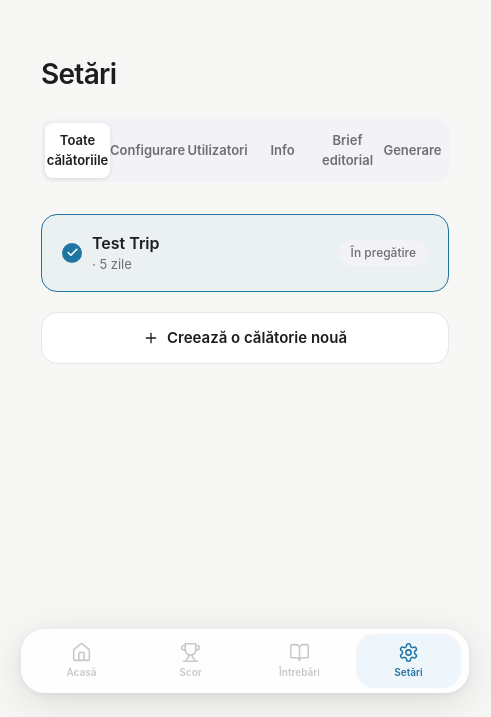
it: Trip editorial brief: editable form before publication › pre-fills the form from an existing brief (not the form's own defaults)
Click the button "Brief editorial": (348, 150) [315,123,380,178]
(page scrolled)
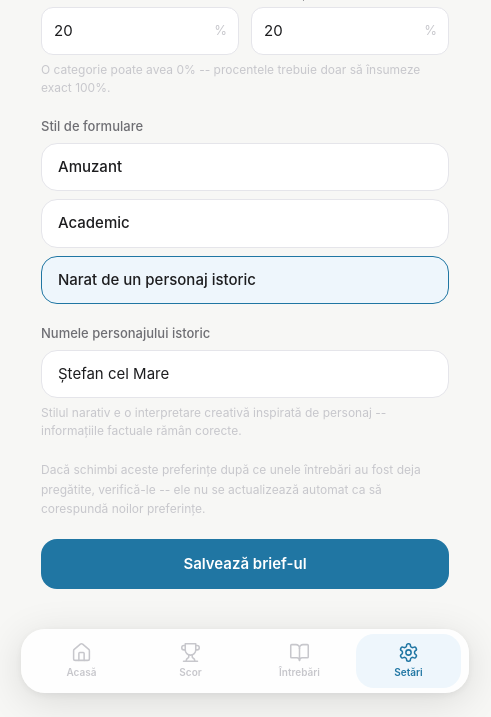
Expected: the field labelled "Numele personajului istoric" holds "Ștefan cel Mare", [41,350,449,398]
Expected: the button "Salvează brief-ul" is shown, [41,538,449,589]
